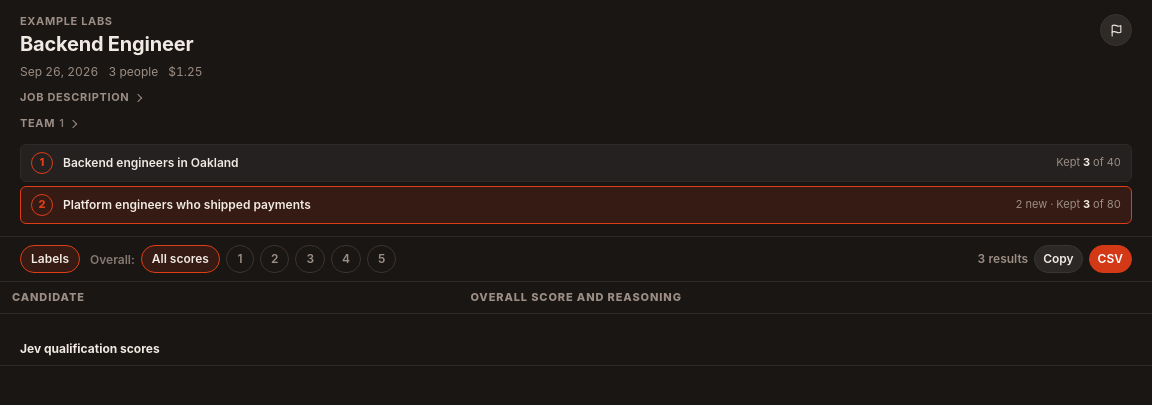
RunView › opens who brought a source from its pill, with their share, and closes on Escape
Step 1. Click the button "Kept" → (187, 205), box [20,186,1132,224]
(page scrolled)
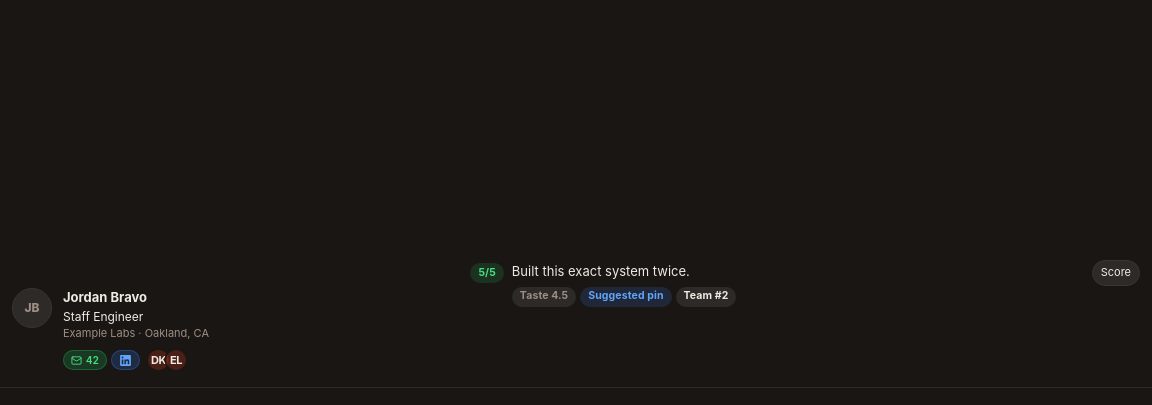
Step 2. Click the button named "Gmail sources for Jordan Bravo" → (85, 360), box [63,349,107,371]
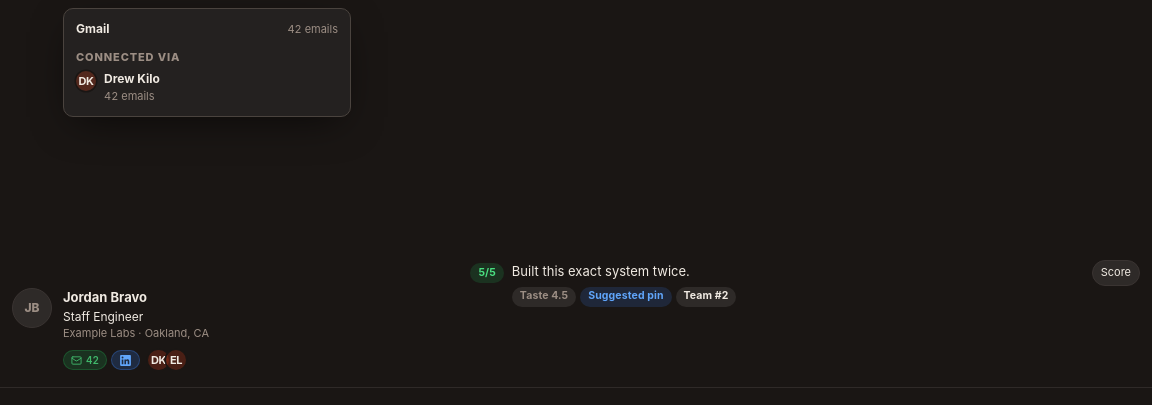
Expected: the text "42 emails" is shown 2 times, [287,21,338,37]; [104,89,155,103]
Expected: the text "Drew Kilo" is shown, [104,71,160,86]
Step 3. Press Escape
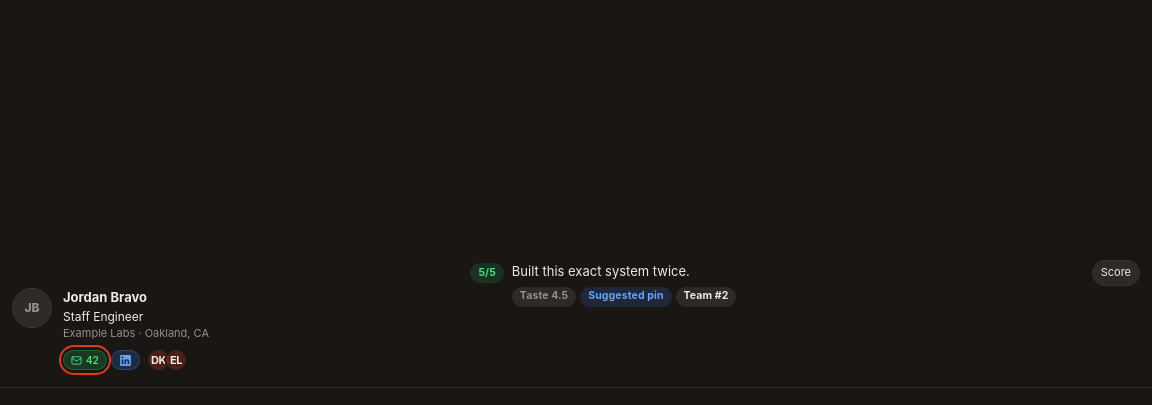
Step 4. Click the button with aria-label "Source operators for Jordan Bravo" → (167, 360), box [148,349,186,371]
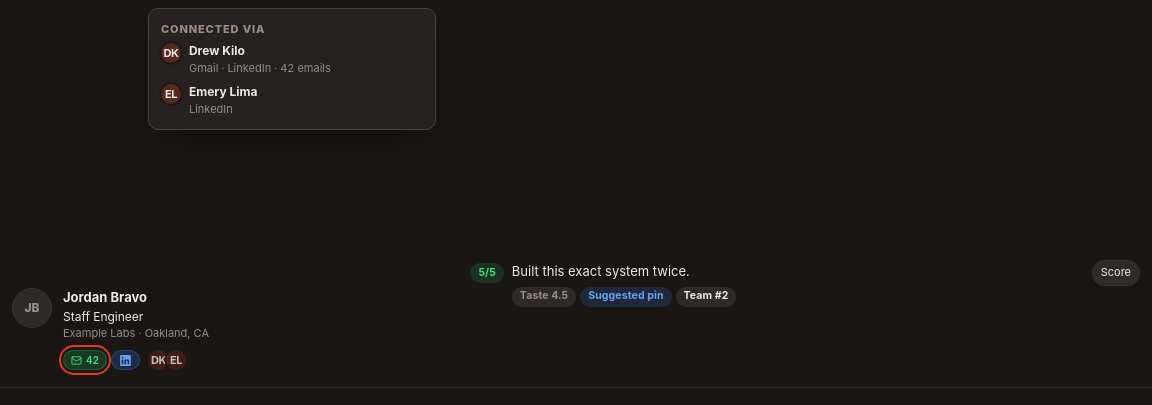
Expected: the text "Emery Lima" is shown, [189,84,258,99]
Expected: the text "Gmail · LinkedIn · 42 emails" is shown, [189,61,331,75]
